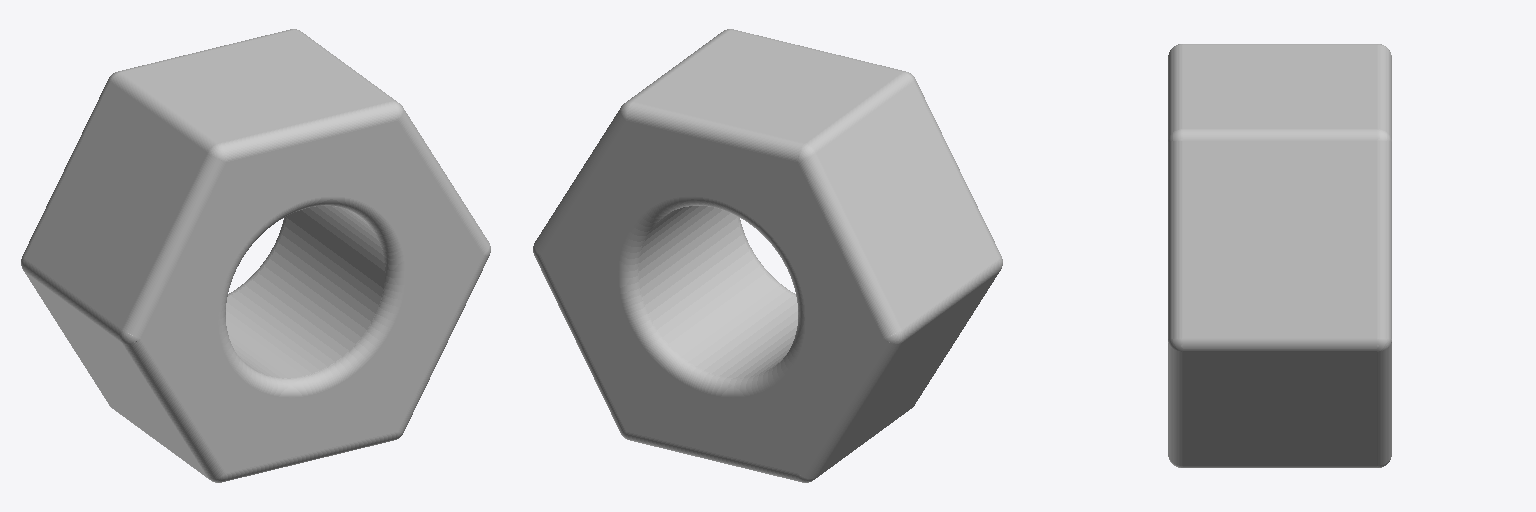
File: Nut.obj
3 views of the same model, side by side, from view 1: azimuth 30°, elevation 25°; view 2: azimuth 150°, elevation 25°; view 3: azimuth 270°, elevation 25° (orthographic).
Bounding box in the file's own units: 36.27 × 31.75 × 19.05.